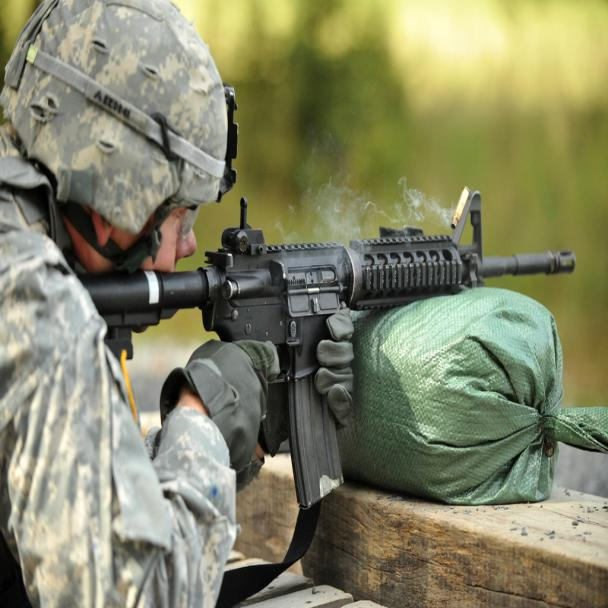Gun: (73, 178, 581, 388)
Hand: (159, 334, 292, 503), (310, 309, 370, 445)
